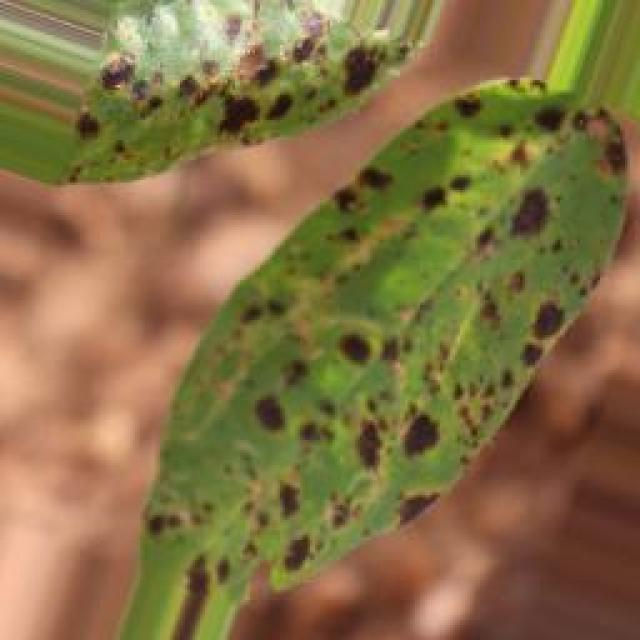Yellowish: (137, 80, 606, 588), (45, 0, 388, 198)
